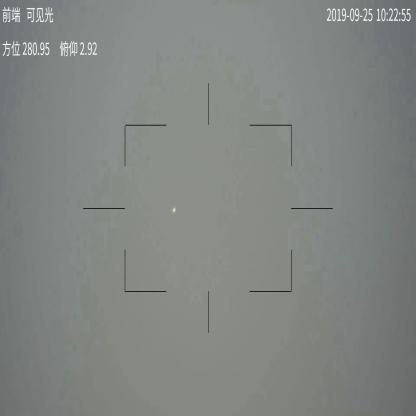uav: (171, 206, 177, 214)
